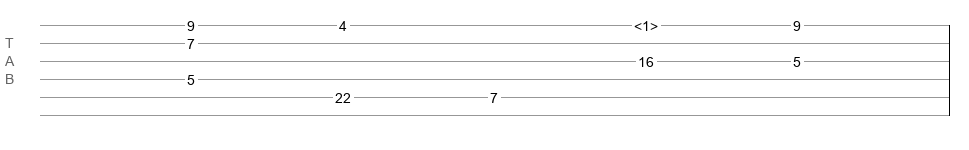16: (638, 54, 654, 64)
22: (335, 90, 351, 100)
4: (339, 18, 347, 28)
5: (187, 72, 195, 82), (793, 54, 801, 64)
7: (187, 36, 195, 46), (490, 90, 498, 100)
9: (187, 18, 195, 28), (793, 18, 801, 28)
harmonic: (634, 18, 658, 28)
